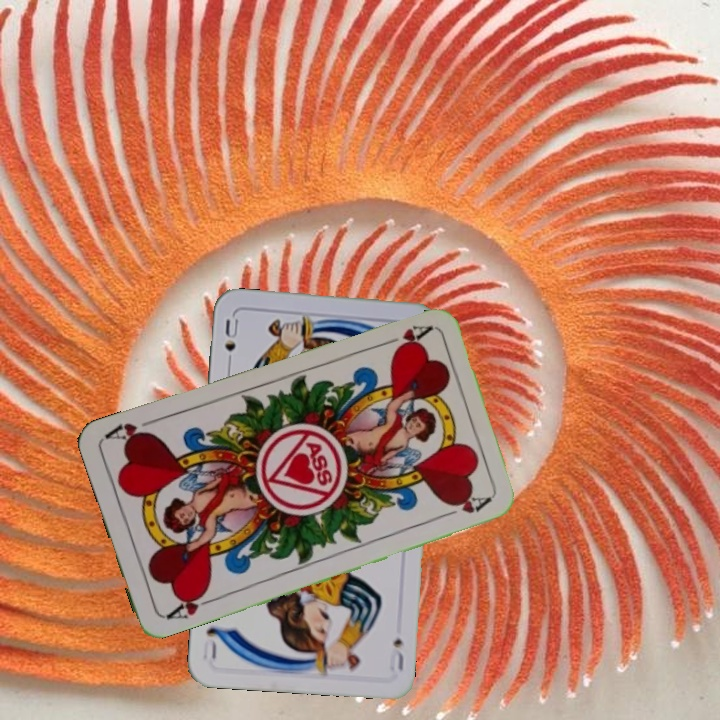HA: (161, 586, 218, 622), (376, 321, 433, 356)
SU: (220, 315, 241, 372), (385, 634, 407, 674)
